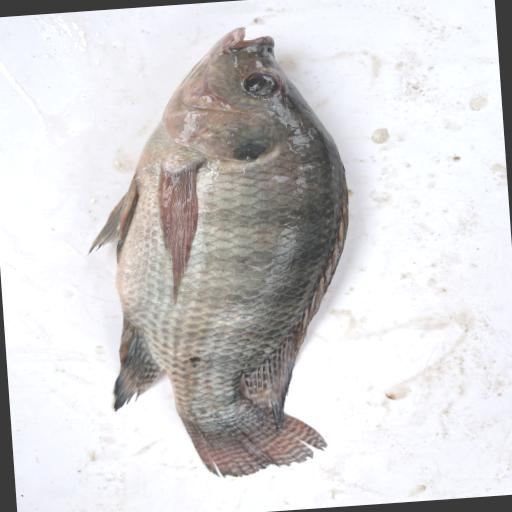Tilapia: (73, 20, 368, 487)
